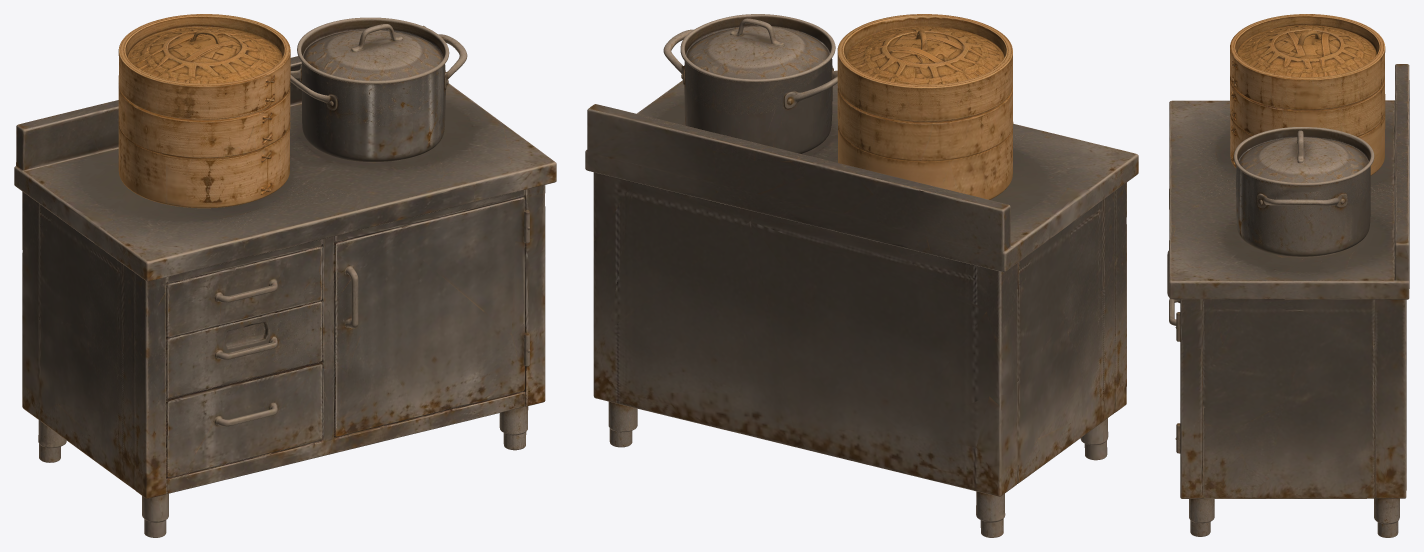
The model's file is k_sidecounter.glb.
The picture shows the model from 3 angles, left to right: view 1: azimuth 30°, elevation 25°; view 2: azimuth 150°, elevation 25°; view 3: azimuth 270°, elevation 25°; orthographic projection. The views are drawn at different scales.
Size of the model in its own units: 1.9 by 1.9 by 1.07.
1 material, 1 textured.
